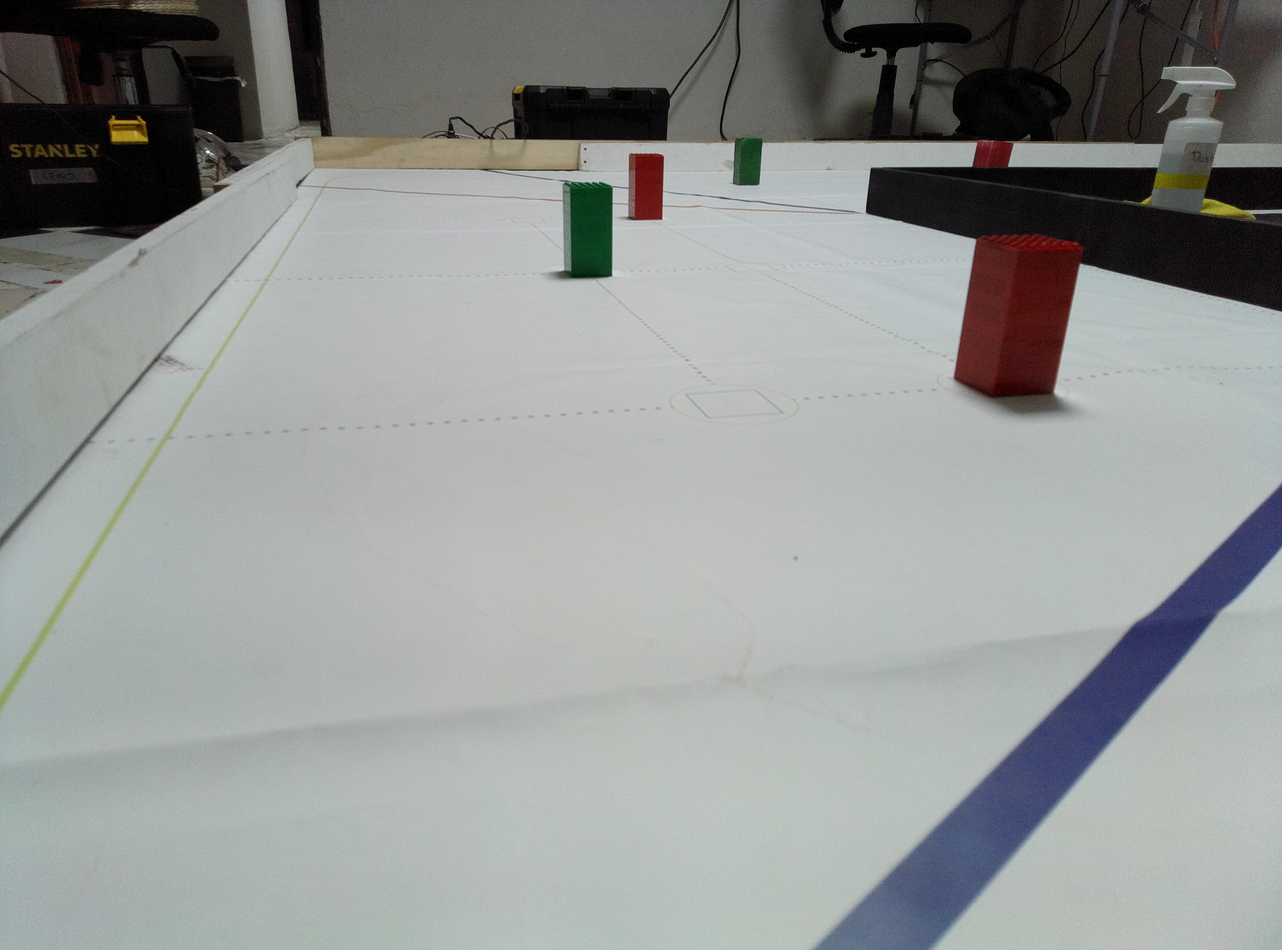greenbox: (561, 180, 614, 279), (732, 137, 763, 186)
redbox: (952, 233, 1086, 401), (627, 153, 665, 221), (971, 140, 1015, 168)
